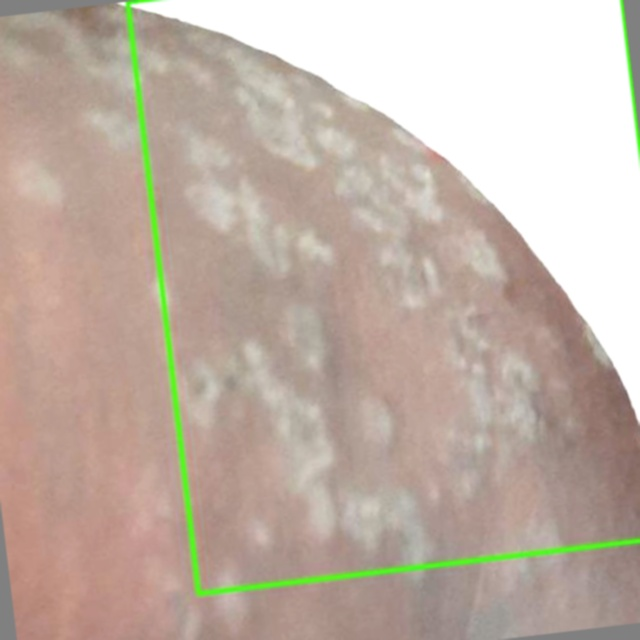Tinea Corporis: (128, 0, 639, 593)
